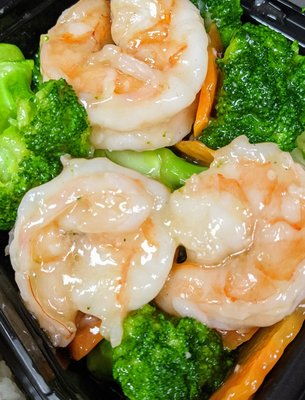burger: (240, 0, 305, 50)
curry: (0, 43, 94, 234), (195, 12, 305, 153), (110, 304, 235, 400), (94, 147, 206, 191)
